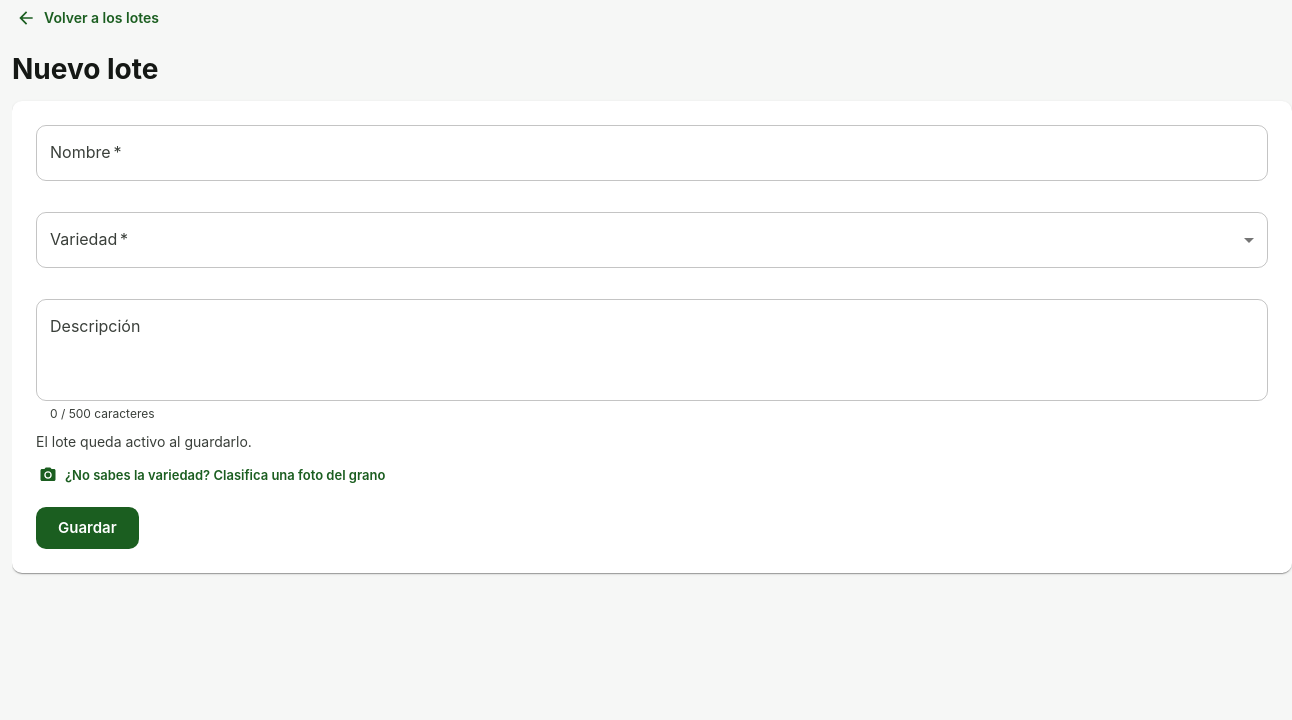
it: PaginaFormularioProducto › CA-02.2 un nombre de 2 caracteres muestra el error y no envía
Type "ab" into the field labelled "Nombre *" at coordinates (652, 153), box [36,125,1268,181]
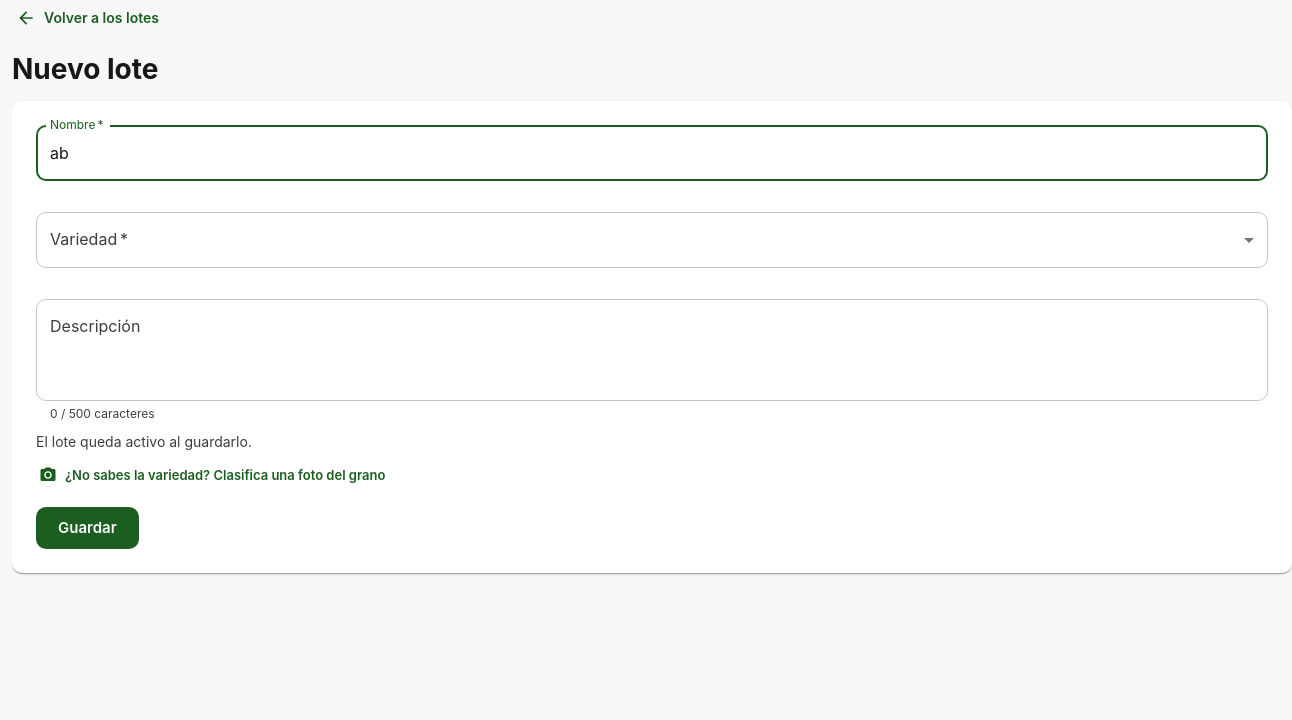
Click the button with test id "boton-guardar" at coordinates (87, 528), box [36,507,139,549]
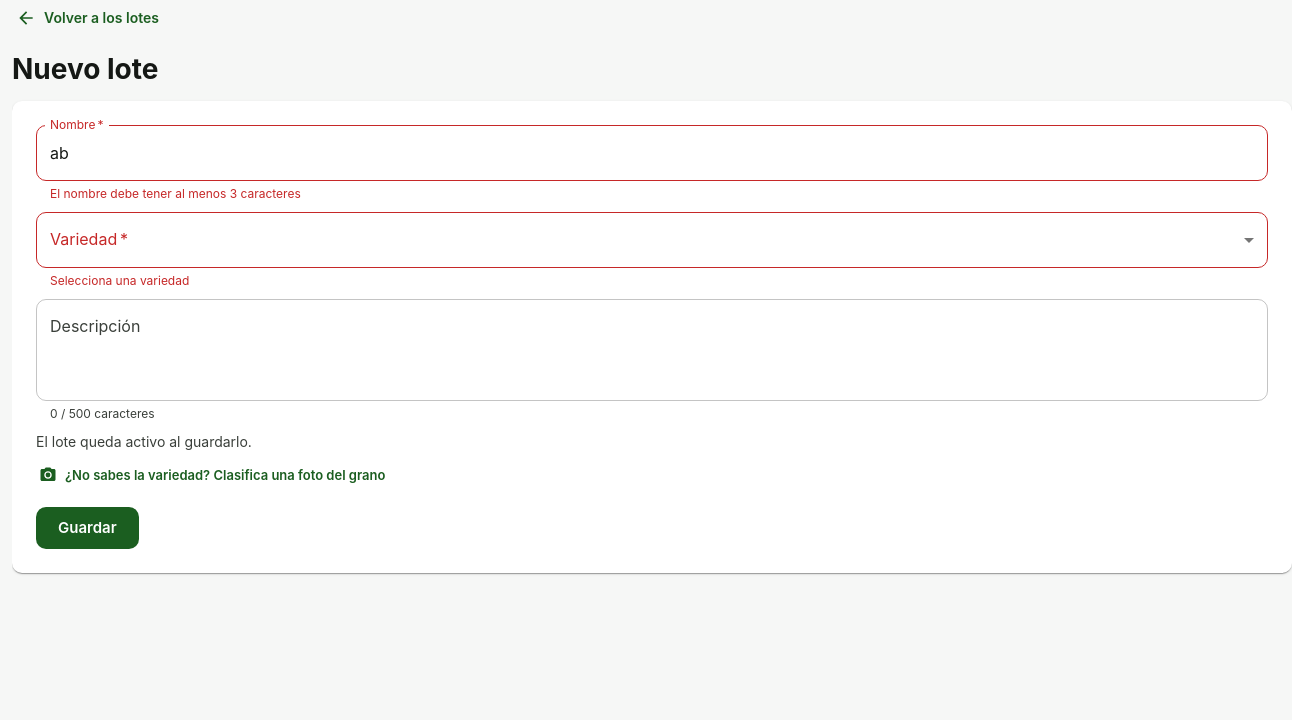
Now the text "El nombre debe tener al menos 3 caracteres" is shown, box [50,186,301,201]
Now the text "Selecciona una variedad" is shown, box [50,273,189,288]
